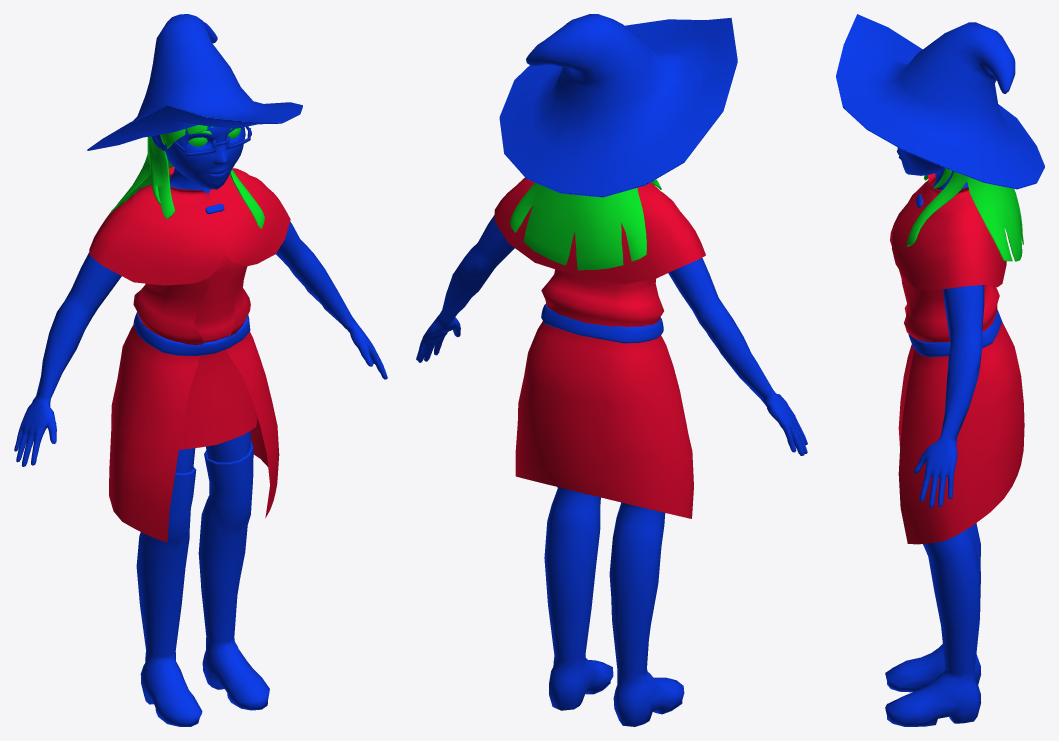
File: SM_witchNPC.fbx
The picture shows the model from 3 angles, left to right: view 1: azimuth 30°, elevation 25°; view 2: azimuth 150°, elevation 25°; view 3: azimuth 270°, elevation 25°; orthographic projection. The views are drawn at different scales.
Parts seen in each view (by area): view 1: boots_low1; view 2: boots_low1; view 3: boots_low1.
Part boxes in pixels (<box>): boots_low1: <box>14,14,387,726</box>; boots_low1: <box>416,14,807,726</box>; boots_low1: <box>836,14,1044,726</box>.
Size of the model in its own units: 17.43 by 30.17 by 8.45.
